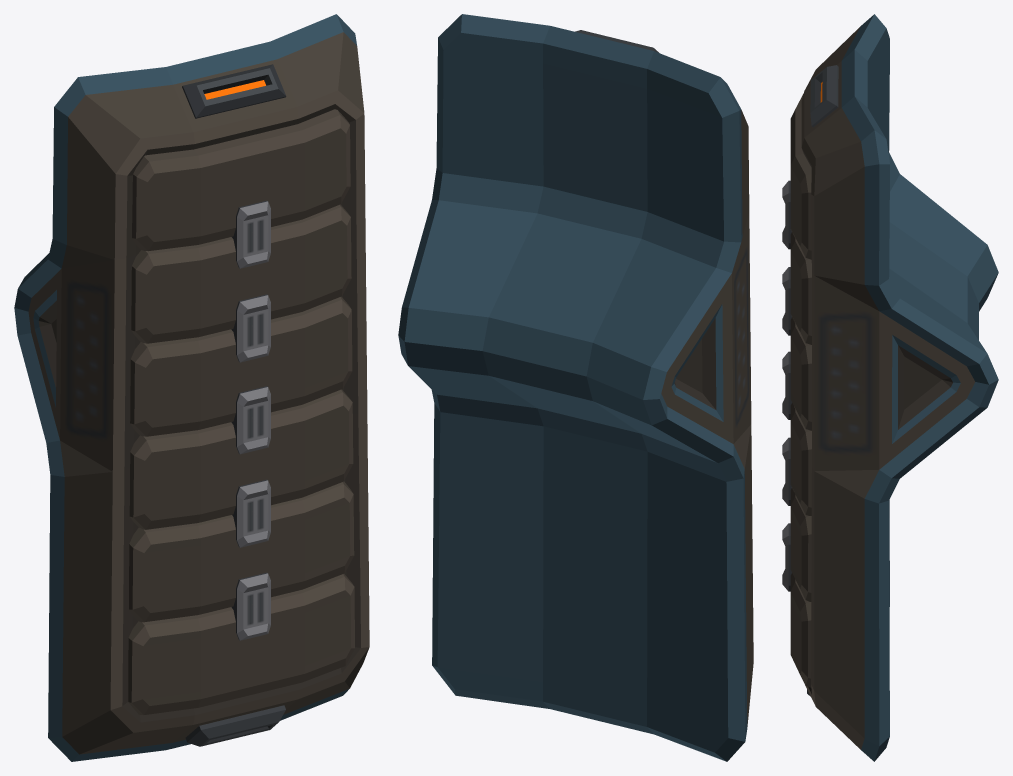
The model's file is SM_Mech_Arm_01_Armor_Shoulder_02.fbx.
3 renders of one model, left to right at view 1: azimuth 30°, elevation 25°; view 2: azimuth 150°, elevation 25°; view 3: azimuth 270°, elevation 25°, orthographic. The views are drawn at different scales.
Parts seen in each view (by area): view 1: SM_Mech_Arm_01_Armor_Shoulder_02; view 2: SM_Mech_Arm_01_Armor_Shoulder_02; view 3: SM_Mech_Arm_01_Armor_Shoulder_02.
Part boxes in pixels (x1,y1,x2,y2): SM_Mech_Arm_01_Armor_Shoulder_02: [14, 14, 369, 761]; SM_Mech_Arm_01_Armor_Shoulder_02: [398, 14, 753, 761]; SM_Mech_Arm_01_Armor_Shoulder_02: [782, 14, 998, 761].
Size of the model in its own units: 68.06 by 142 by 44.29.
